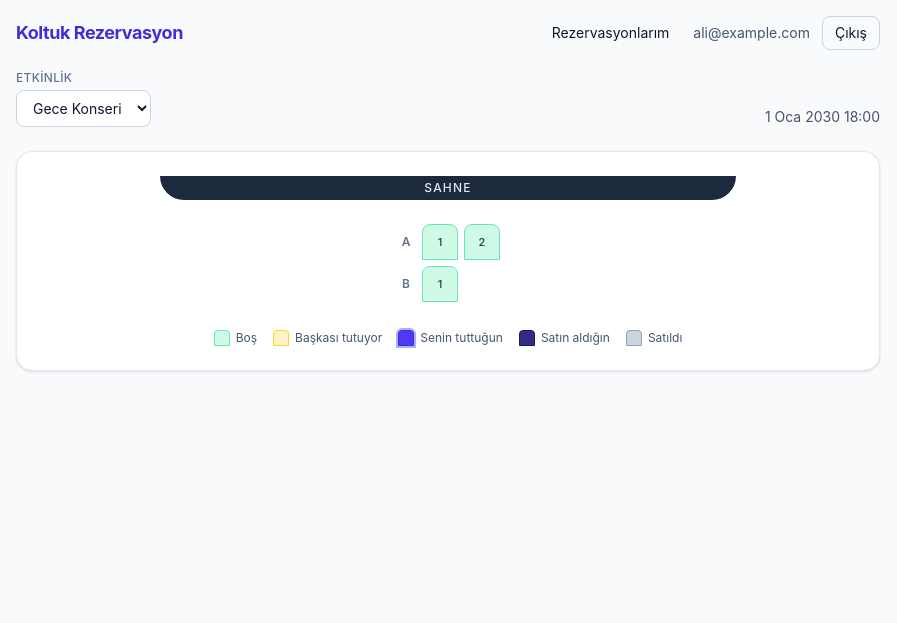
Test: koltuk tutma ve onaylama akışı › tutulan koltuktan "Vazgeç" ile vazgeçilir: sayaç kalkar, koltuk boşalır ve yeniden tutulabilir
This screenshot has width=897, height=623.
Click the button named "A1, boş": [440, 242] box [422, 224, 458, 260]
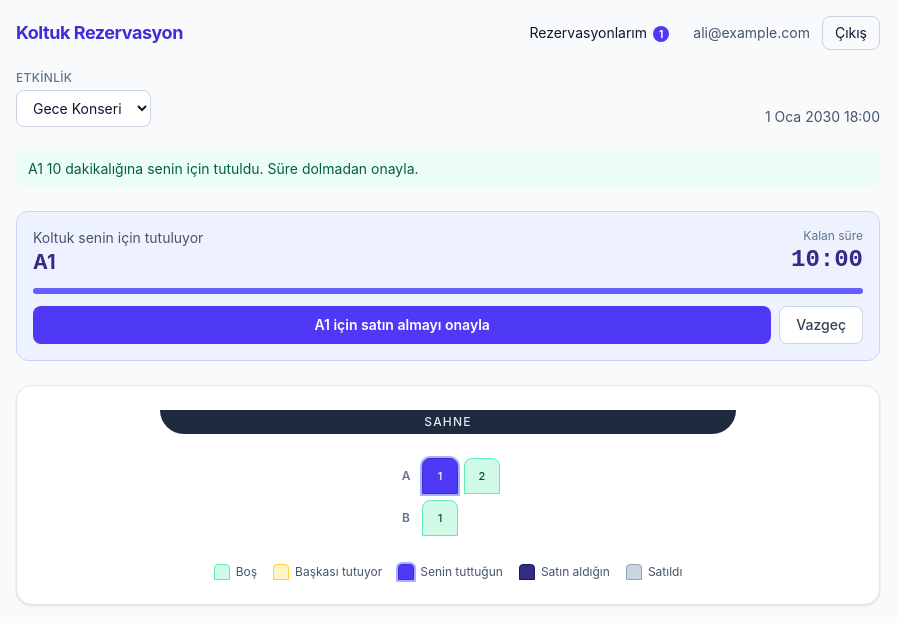
Expected: the text named "A1 için kalan süre" is shown, [791, 244, 863, 276]
Click the button with aria-label "A1 için vazgeç": [821, 325] box [779, 306, 863, 344]
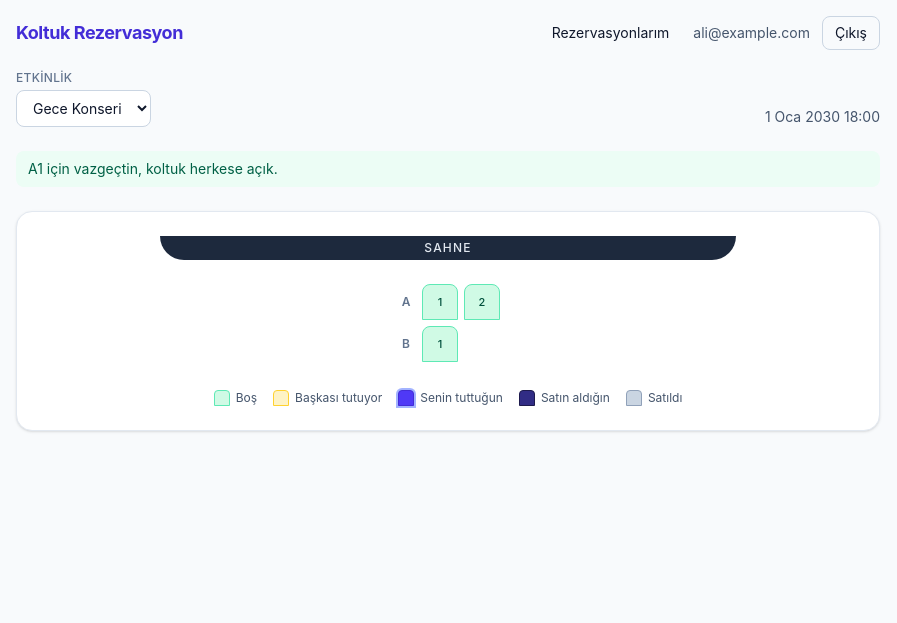
Expected: the button named "A1, boş" is shown
Expected: the message shows "A1 için vazgeçtin", [28, 160, 278, 177]
Click the button named "A1, boş": [440, 302] box [422, 284, 458, 320]
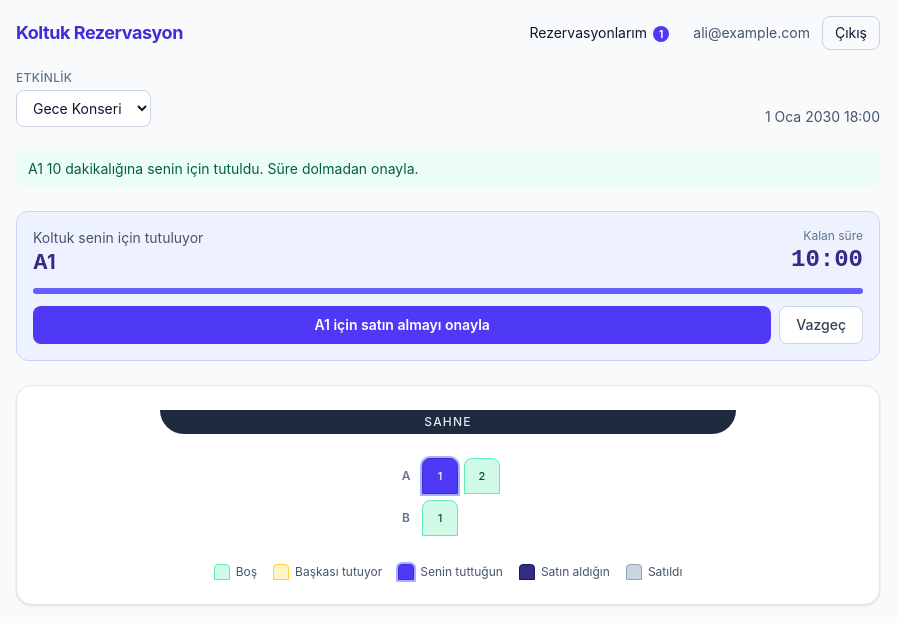
Expected: the text named "A1 için kalan süre" is shown, [791, 244, 863, 276]
